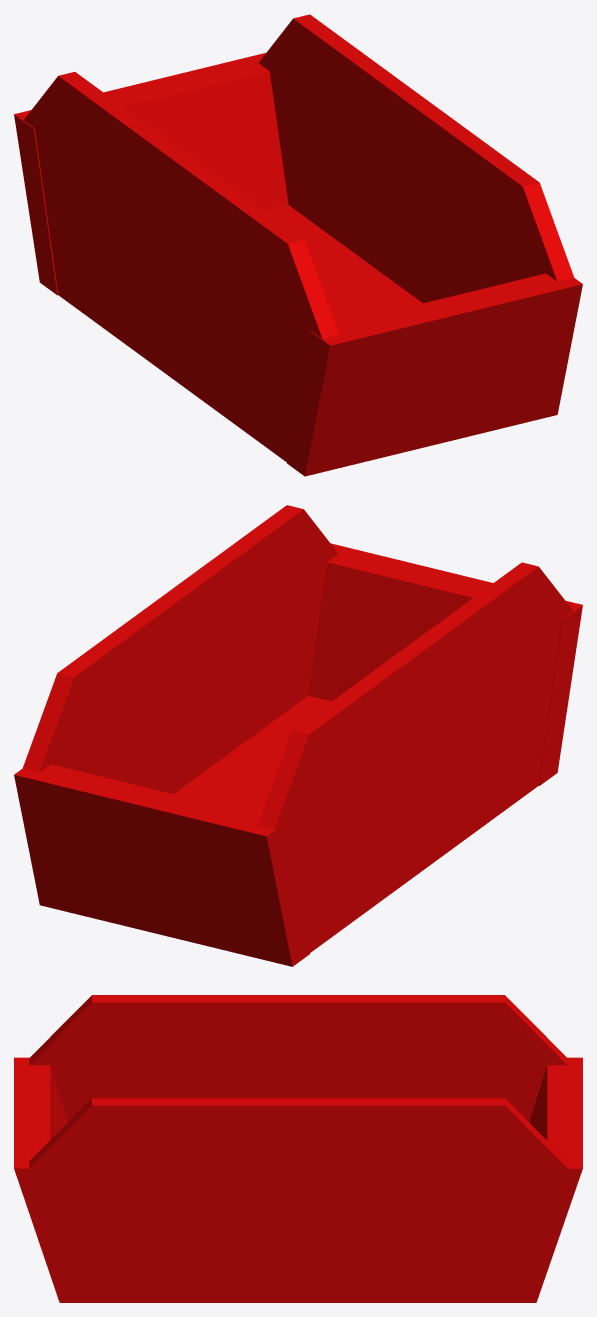
The model's file is SM_Prop_Skip_Large_01_Collision.fbx.
3 renders of one model, top to bottom at view 1: azimuth 30°, elevation 25°; view 2: azimuth 150°, elevation 25°; view 3: azimuth 270°, elevation 25°, orthographic. The views are drawn at different scales.
Parts seen in each view (by area): view 1: SM_Prop_Skip_Large_01_Collision; view 2: SM_Prop_Skip_Large_01_Collision; view 3: SM_Prop_Skip_Large_01_Collision.
Part boxes in pixels (<box>): SM_Prop_Skip_Large_01_Collision: <box>14,14,582,476</box>; SM_Prop_Skip_Large_01_Collision: <box>14,505,582,966</box>; SM_Prop_Skip_Large_01_Collision: <box>14,995,582,1302</box>.
Bounding box in the file's own units: 221 × 183 × 479.
